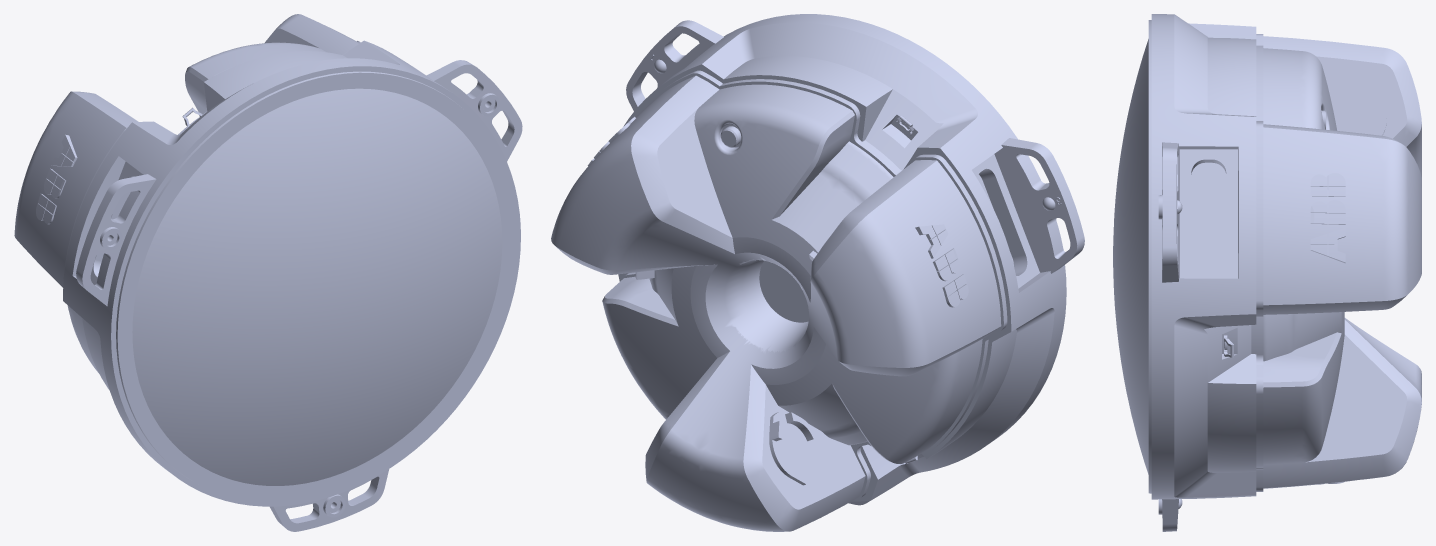
3 renders of one model, left to right at view 1: azimuth 30°, elevation 25°; view 2: azimuth 150°, elevation 25°; view 3: azimuth 270°, elevation 25°, orthographic. The views are drawn at different scales.
Parts seen in each view (by area): view 1: IRB360_6-1600-STD-4D_rev04_BASE_CAD; view 2: IRB360_6-1600-STD-4D_rev04_BASE_CAD; view 3: IRB360_6-1600-STD-4D_rev04_BASE_CAD.
Part boxes in pixels (x1,y1,x2,y2): IRB360_6-1600-STD-4D_rev04_BASE_CAD: [14, 14, 522, 531]; IRB360_6-1600-STD-4D_rev04_BASE_CAD: [551, 14, 1084, 531]; IRB360_6-1600-STD-4D_rev04_BASE_CAD: [1113, 14, 1421, 531].
Bounding box in the file's own units: 0.7425 × 0.7432 × 0.4399.
